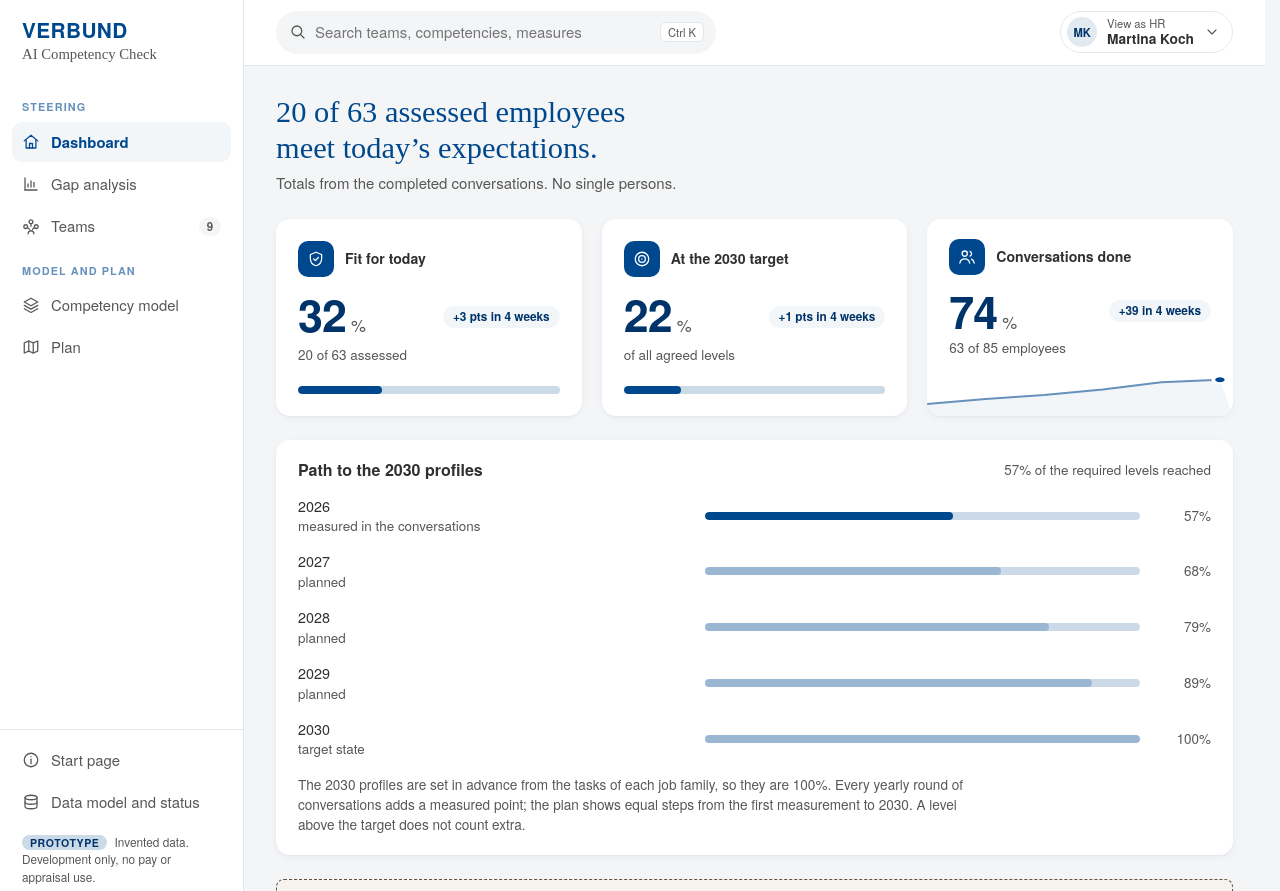
Test: search › finds no persons for HR
expect the navigation bar named "Main" is shown: met, box [12,100,231,357]
Type "Berger" into the dropdown labelled "Search" at point(496, 32), box [276,11,716,54]
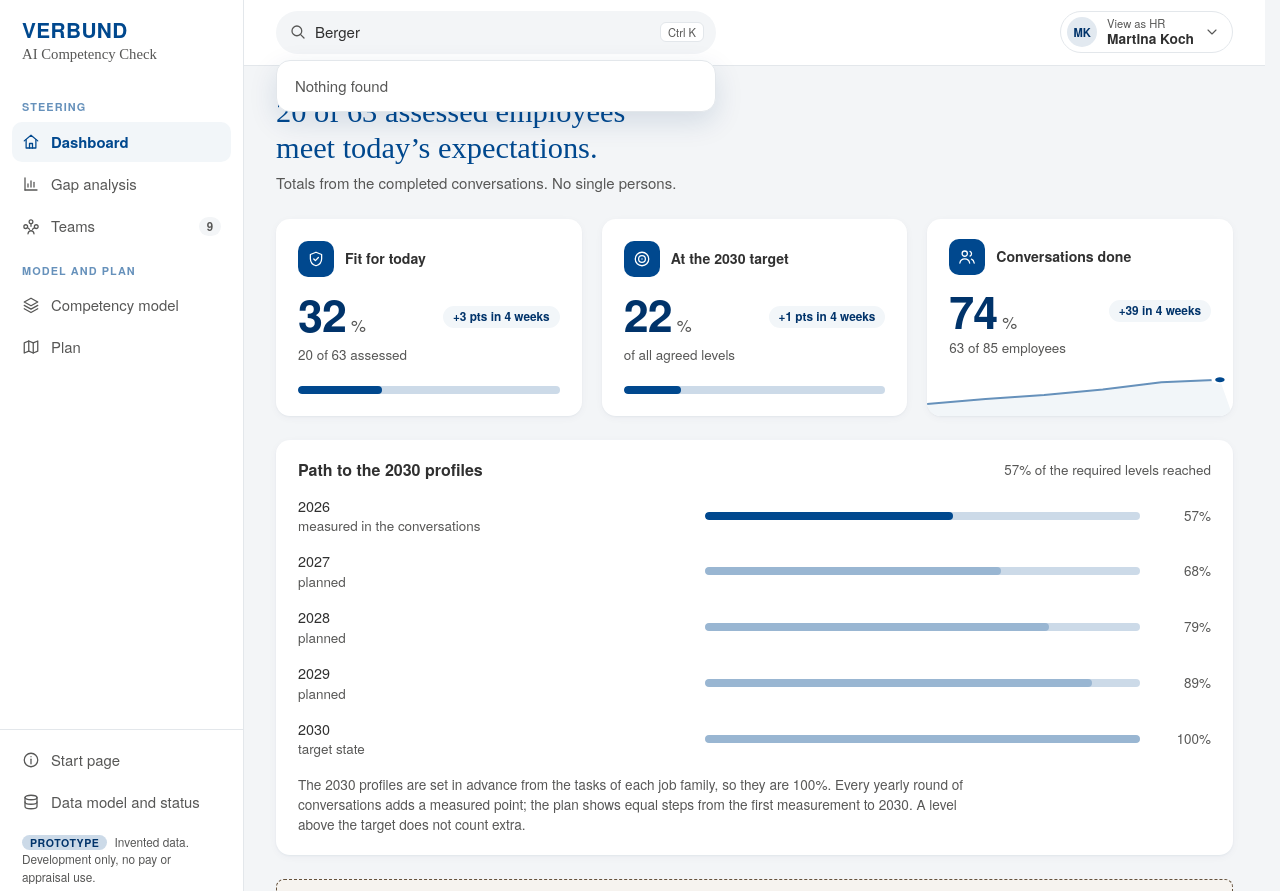
expect the list reads "Nothing found": met, box [295,74,388,96]
